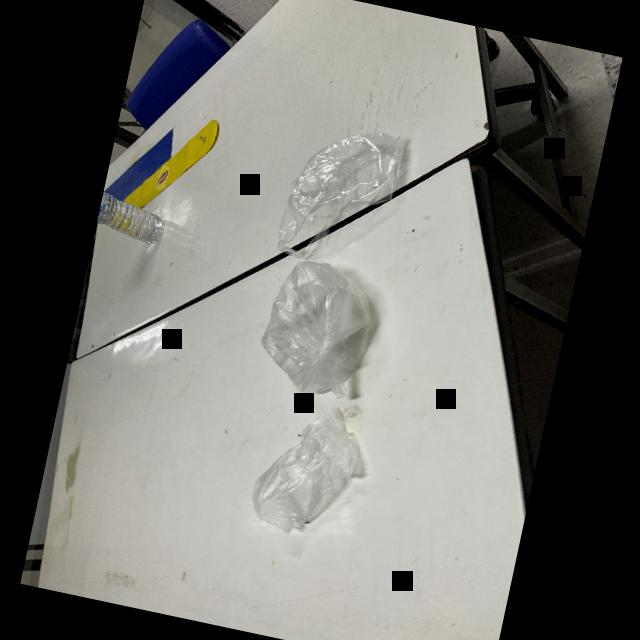plastic_bag: (268, 110, 412, 277), (247, 249, 390, 406), (244, 391, 376, 545)
